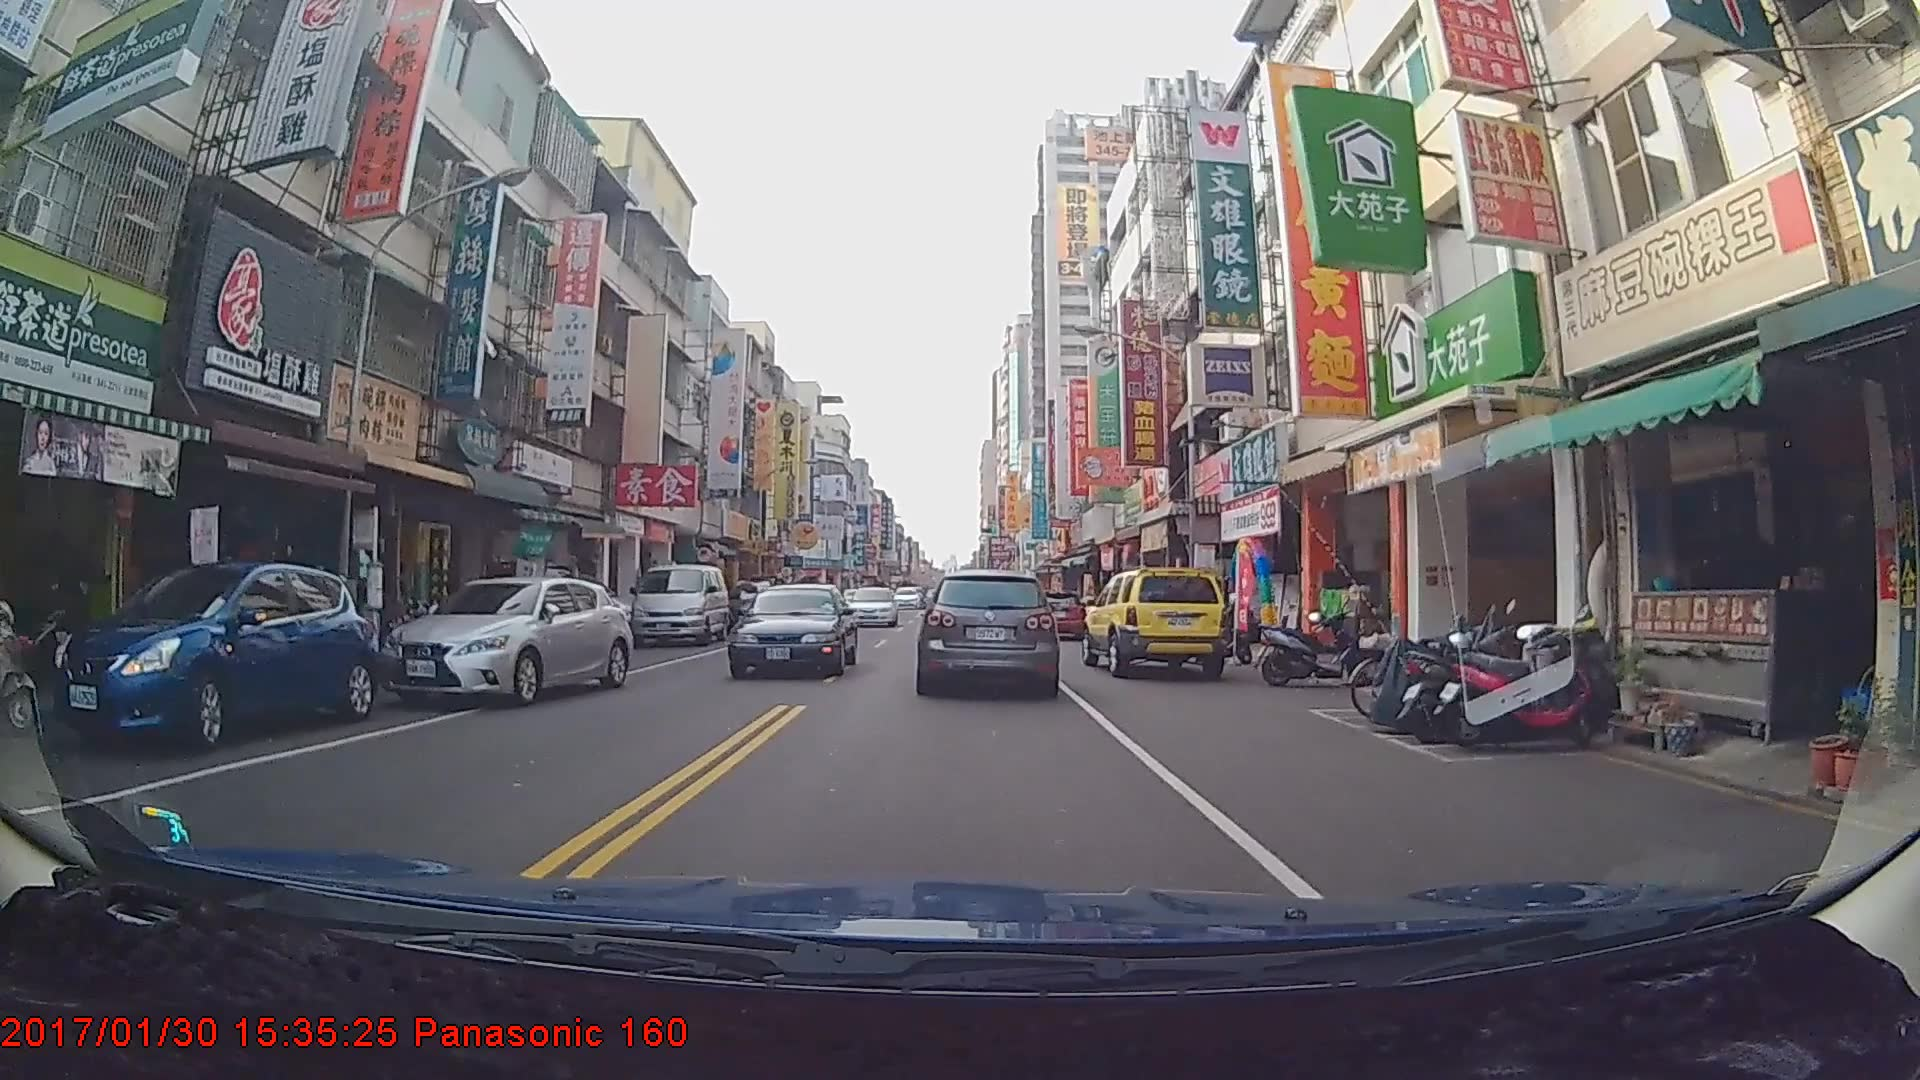vehicle: (53, 559, 377, 752), (375, 570, 636, 702), (919, 568, 1058, 696), (1081, 560, 1232, 676), (725, 582, 857, 680), (626, 563, 728, 645), (1022, 587, 1085, 640), (845, 587, 897, 629), (891, 585, 920, 608)
